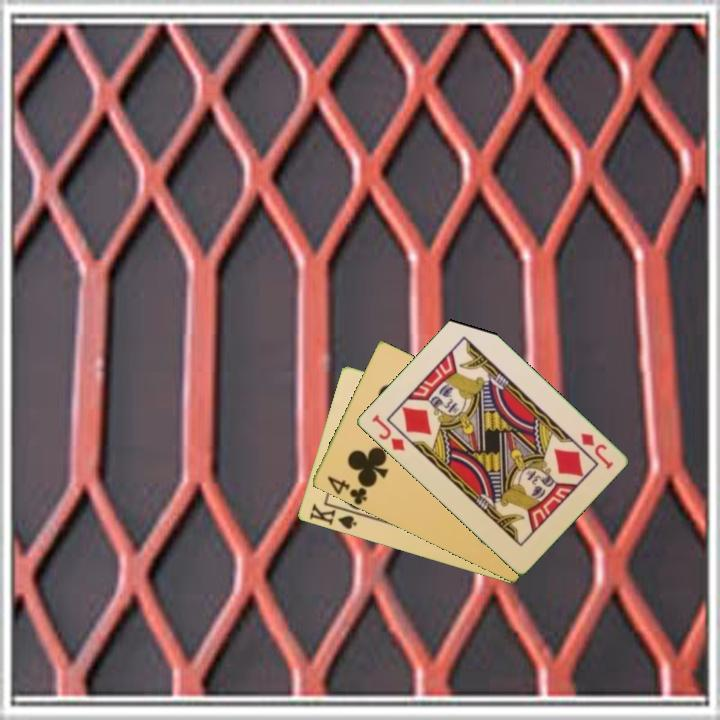4c: (323, 473, 370, 507)
Jd: (368, 411, 407, 454), (577, 429, 616, 472)
Ks: (306, 500, 359, 532)
